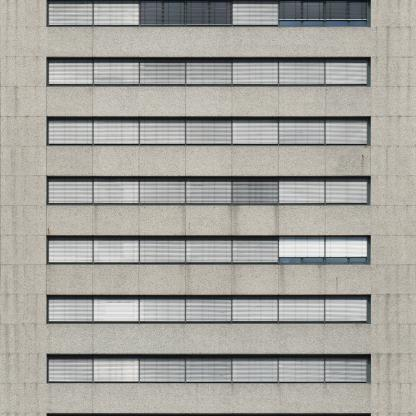Blind: (94, 235, 139, 263), (186, 235, 231, 263), (140, 235, 185, 263), (233, 235, 278, 263), (94, 354, 139, 382), (186, 354, 231, 382), (140, 354, 185, 382), (279, 354, 324, 382), (233, 354, 278, 382), (94, 294, 139, 322), (186, 294, 231, 322), (140, 294, 185, 322), (279, 294, 324, 322), (233, 294, 278, 322), (94, 57, 139, 85), (186, 57, 231, 85), (140, 57, 185, 85), (279, 57, 324, 85), (233, 57, 278, 85), (94, 177, 139, 204), (186, 177, 231, 204), (140, 177, 185, 204), (279, 177, 324, 204), (233, 177, 278, 204), (94, 117, 139, 144), (186, 117, 231, 144), (140, 117, 185, 144), (279, 117, 324, 144), (233, 117, 278, 144), (49, 235, 92, 263), (49, 354, 92, 382), (49, 294, 92, 322), (49, 57, 92, 85), (325, 354, 367, 382), (325, 176, 367, 204), (326, 116, 368, 144), (94, 0, 139, 26), (49, 177, 92, 204), (49, 117, 92, 144), (326, 294, 367, 322), (325, 57, 367, 84), (186, 0, 231, 25), (140, 0, 185, 25), (232, 0, 277, 25), (48, 0, 92, 25), (279, 236, 324, 258), (325, 235, 367, 258), (278, 0, 323, 20), (325, 0, 367, 20)
Building Outline: (0, 0, 416, 416)
Facade: (0, 0, 416, 416)
Floor: (0, 43, 416, 100), (0, 105, 416, 162), (0, 167, 416, 224), (0, 228, 416, 285), (0, 347, 416, 399), (0, 290, 416, 341), (0, 0, 416, 38), (0, 403, 415, 416)
Floor Slab: (0, 399, 416, 404), (0, 38, 416, 43), (0, 100, 416, 105), (0, 162, 416, 167), (0, 224, 416, 229), (0, 285, 416, 290), (0, 342, 416, 347)
Window: (46, 58, 371, 87), (46, 117, 371, 146), (46, 177, 371, 206), (46, 236, 371, 265), (46, 295, 371, 324), (46, 354, 371, 383), (46, 0, 371, 26), (46, 413, 371, 416)
